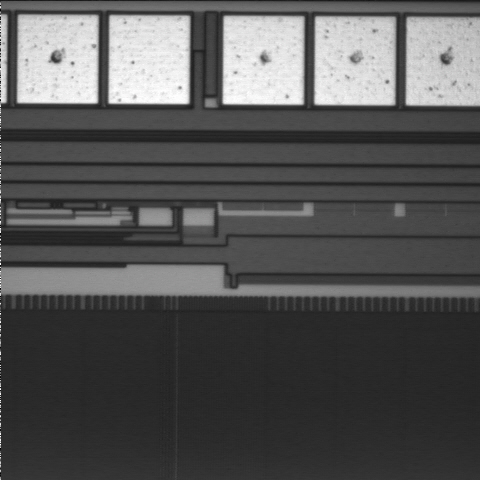pad: (223, 16, 304, 105), (17, 15, 98, 103), (109, 16, 190, 104), (315, 17, 395, 105)
